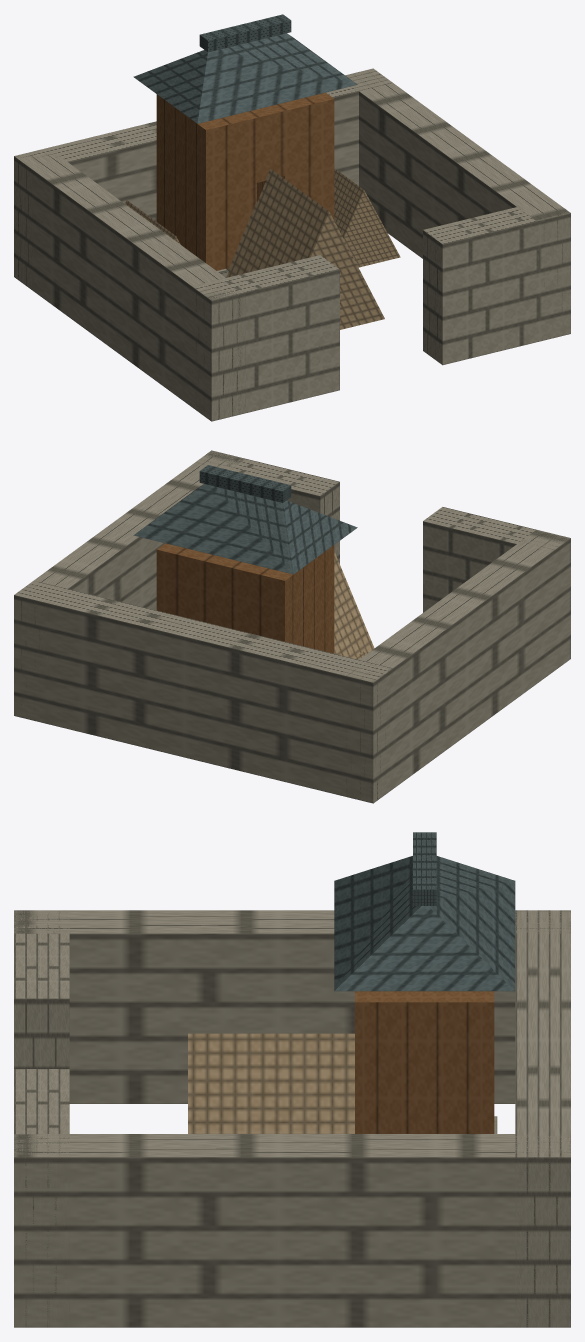
Rendered from military-FORTRESS-1-lod2.glb.
The picture shows the model from 3 angles, top to bottom: view 1: azimuth 30°, elevation 25°; view 2: azimuth 150°, elevation 25°; view 3: azimuth 270°, elevation 25°; orthographic projection. The views are drawn at different scales.
Size of the model in its own units: 0.84 by 0.544 by 0.8.
1 material, 1 textured.
